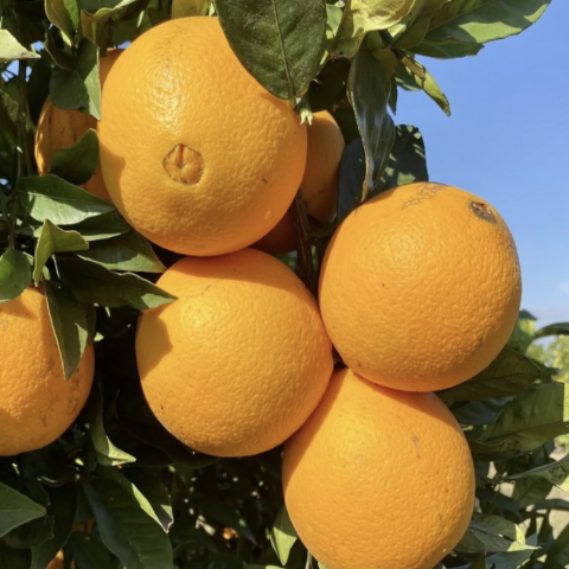orange: (89, 6, 331, 258), (253, 352, 500, 563), (119, 232, 339, 453), (319, 186, 545, 388)
